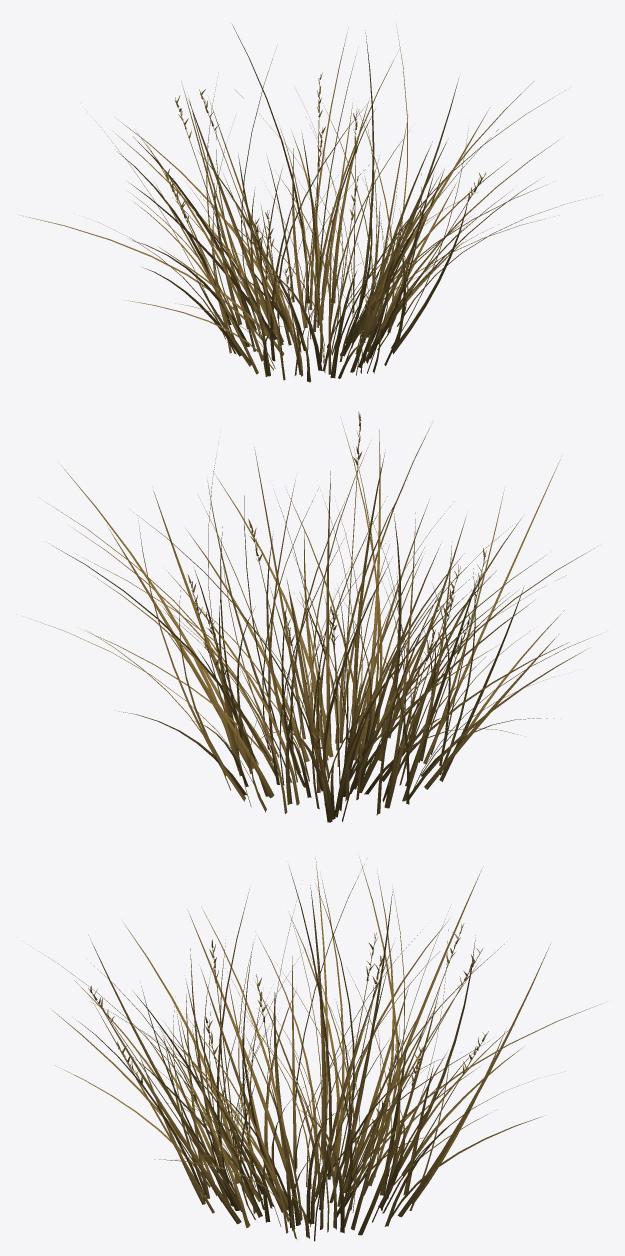
Rendered from grass_dry_lod0.gltf.
The picture shows the model from 3 angles, top to bottom: view 1: azimuth 30°, elevation 25°; view 2: azimuth 150°, elevation 25°; view 3: azimuth 270°, elevation 25°; orthographic projection. The views are drawn at different scales.
Visible parts, largest first — view 1: grass_dry_lod0; view 2: grass_dry_lod0; view 3: grass_dry_lod0.
Part boxes in pixels (<box>): grass_dry_lod0: <box>22,24,579,382</box>; grass_dry_lod0: <box>35,411,601,822</box>; grass_dry_lod0: <box>42,857,600,1241</box>.
Size of the model in its own units: 1.67 by 0.9061 by 1.56.
Materials: 1 (1 with a texture image).
